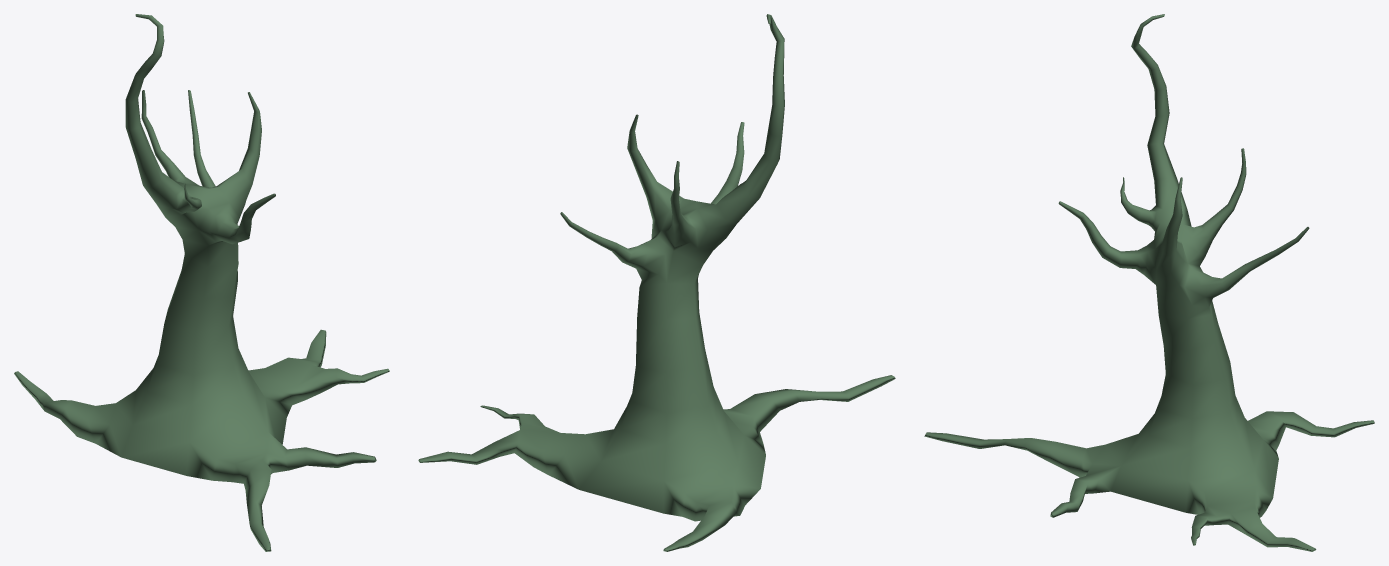
File: treeBase1_LP.fbx
3 renders of one model, left to right at view 1: azimuth 30°, elevation 25°; view 2: azimuth 150°, elevation 25°; view 3: azimuth 270°, elevation 25°, orthographic. The views are drawn at different scales.
Parts seen in each view (by area): view 1: treeBase1_LP; view 2: treeBase1_LP; view 3: treeBase1_LP.
Boxes of the visible parts, box(x1,y1,x2,y2) form: treeBase1_LP: box(14, 14, 389, 551); treeBase1_LP: box(418, 14, 895, 551); treeBase1_LP: box(924, 14, 1374, 551).
Bounding box in the file's own units: 196 × 292 × 278.
